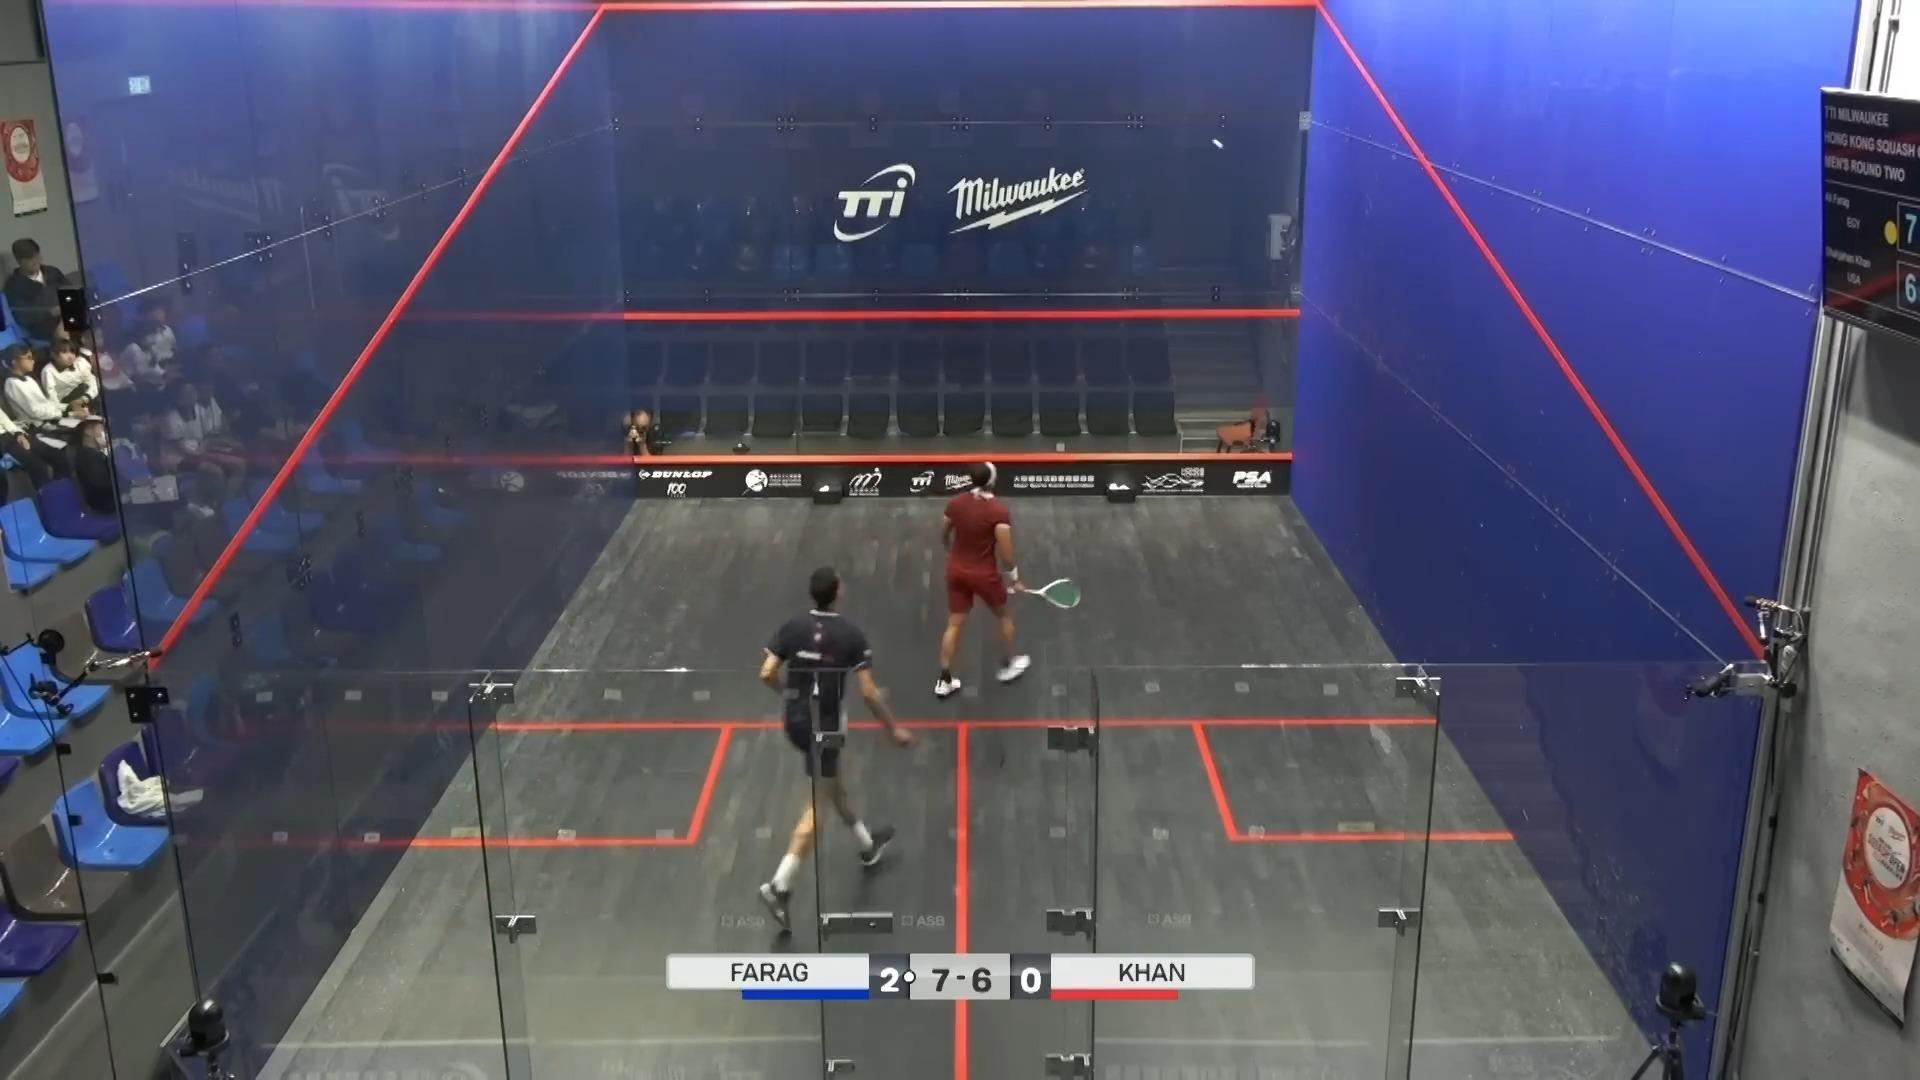Racket: (1021, 567, 1089, 617)
